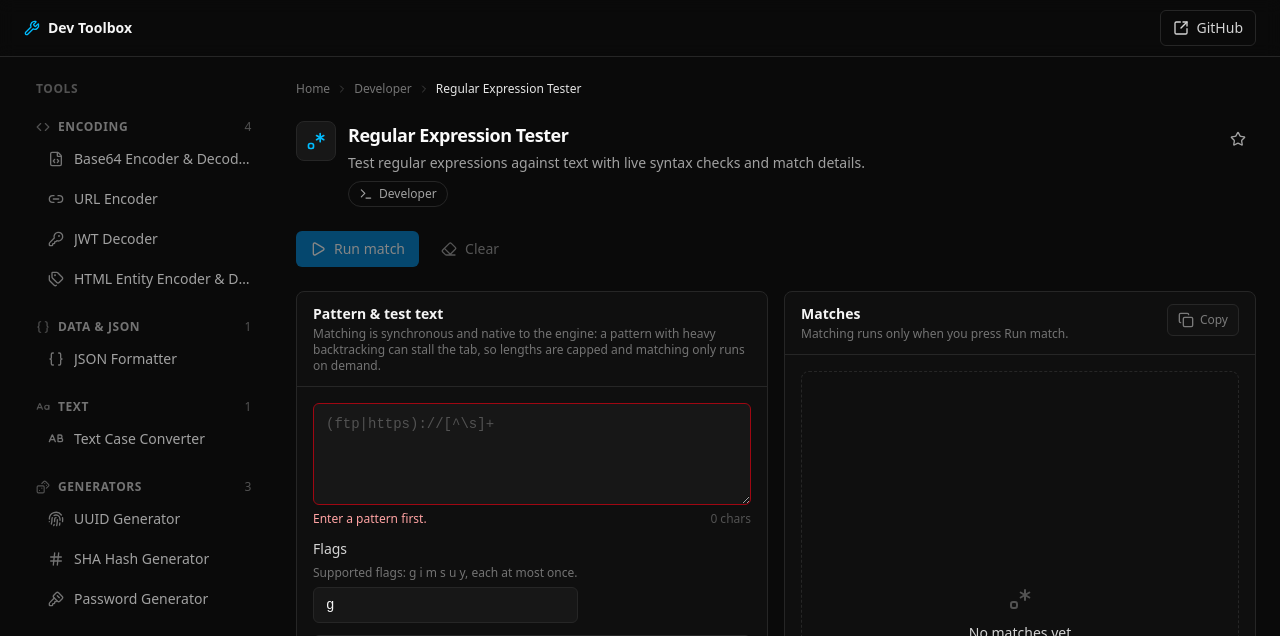
Test: Regular Expression Tester › lists matches with positions for a compiled pattern
Expected: the heading "Regular Expression Tester" is shown, [348,123,568,147]
In the text box named "Pattern": (532, 454) [313,403,751,505], type "\\d+"
(page scrolled)
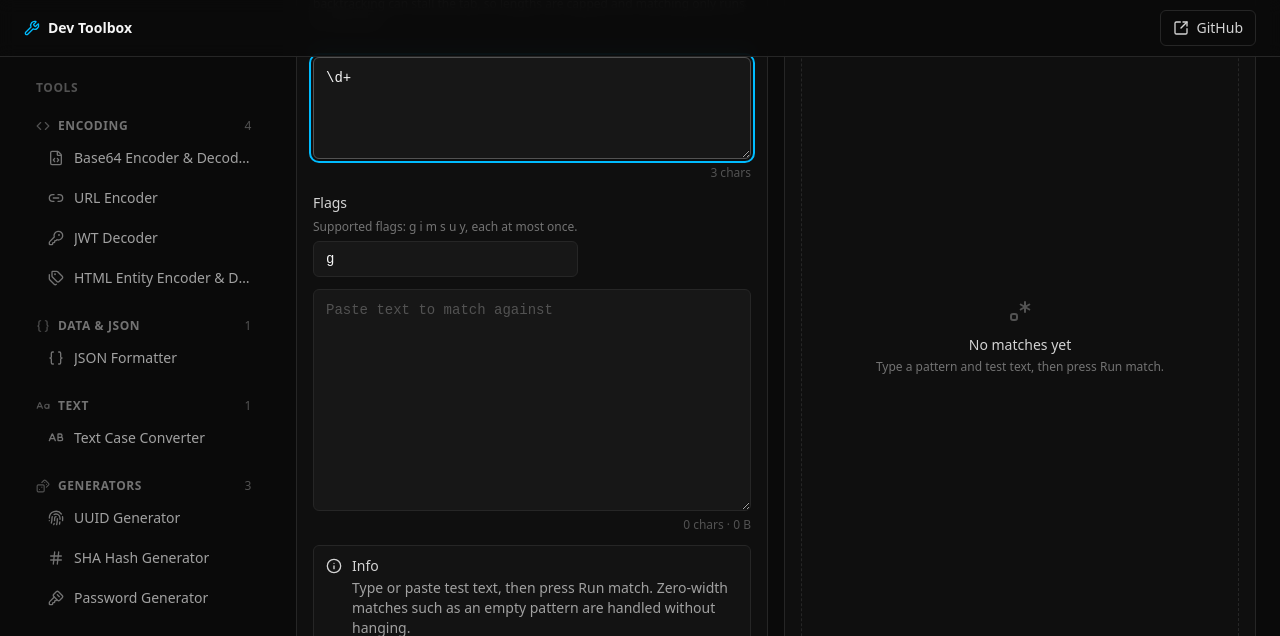
In the text box named "Test text": (532, 400) [313,289,751,511], type "abc 123 xyz 456"
(page scrolled)
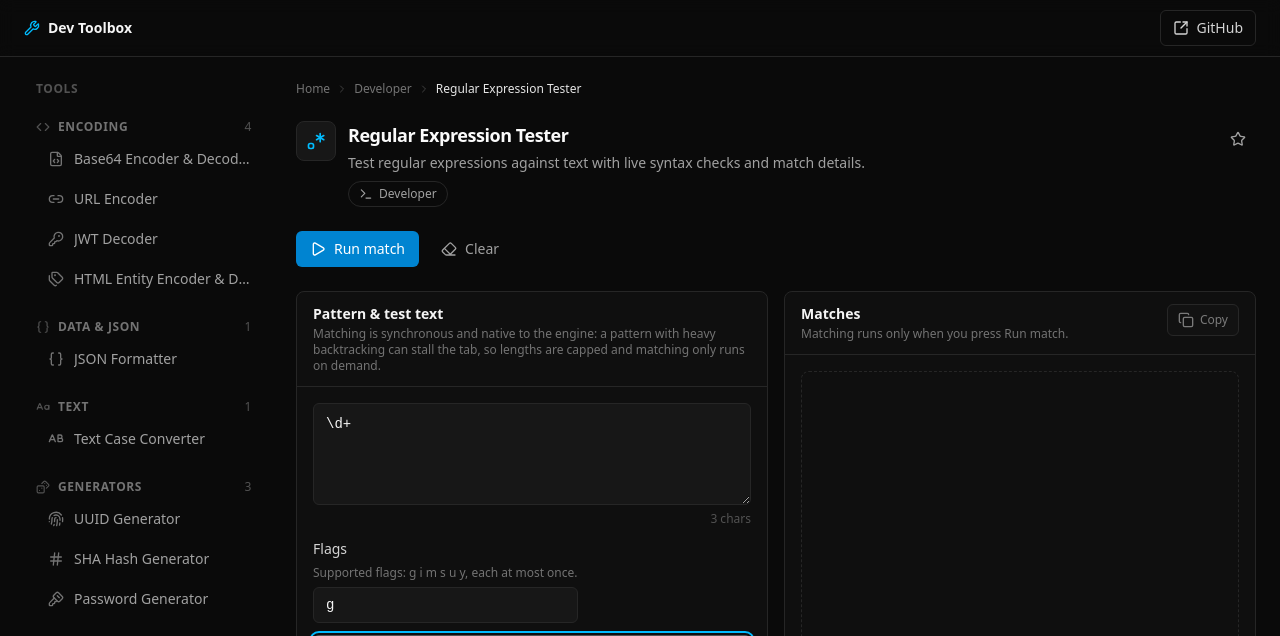
Click the button "Run match": (358, 249) [296,231,419,267]
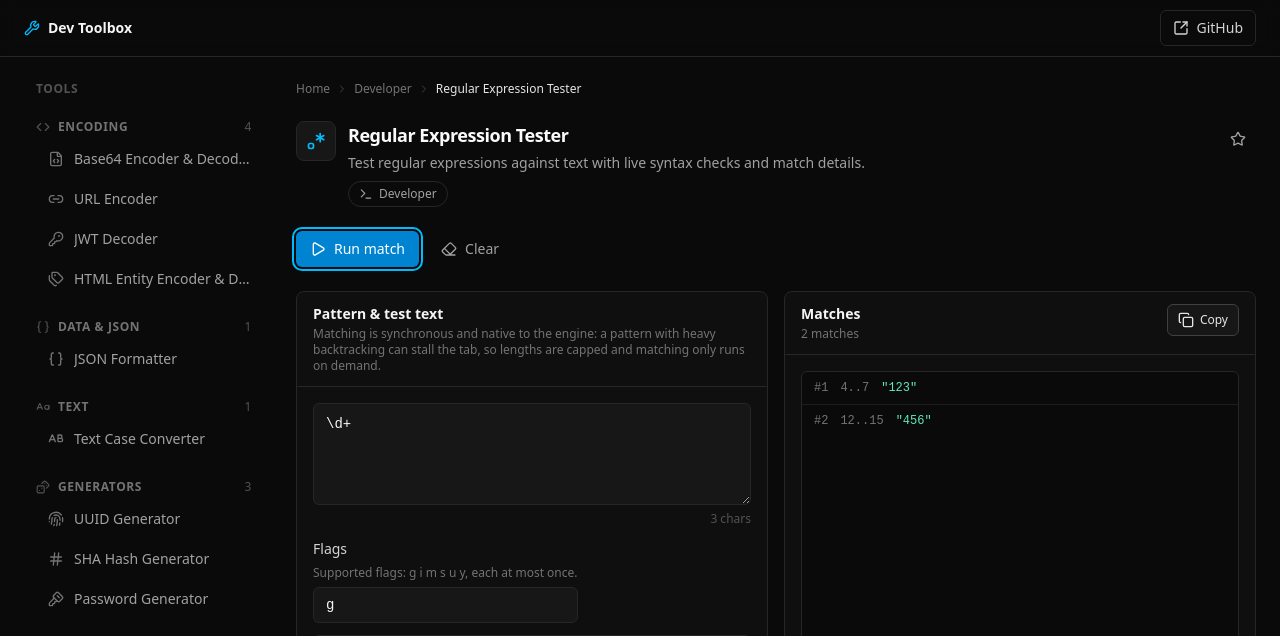
Expected: the text "2 matches" is shown, [801,326,860,342]
